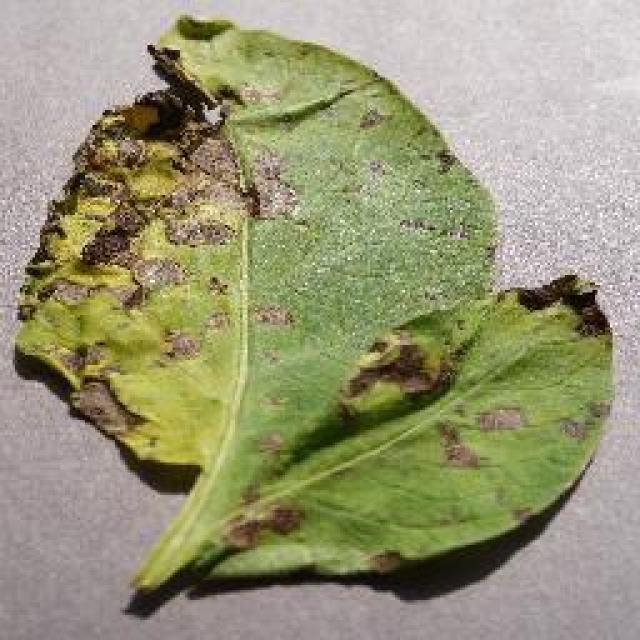Potato: (13, 10, 615, 598)
